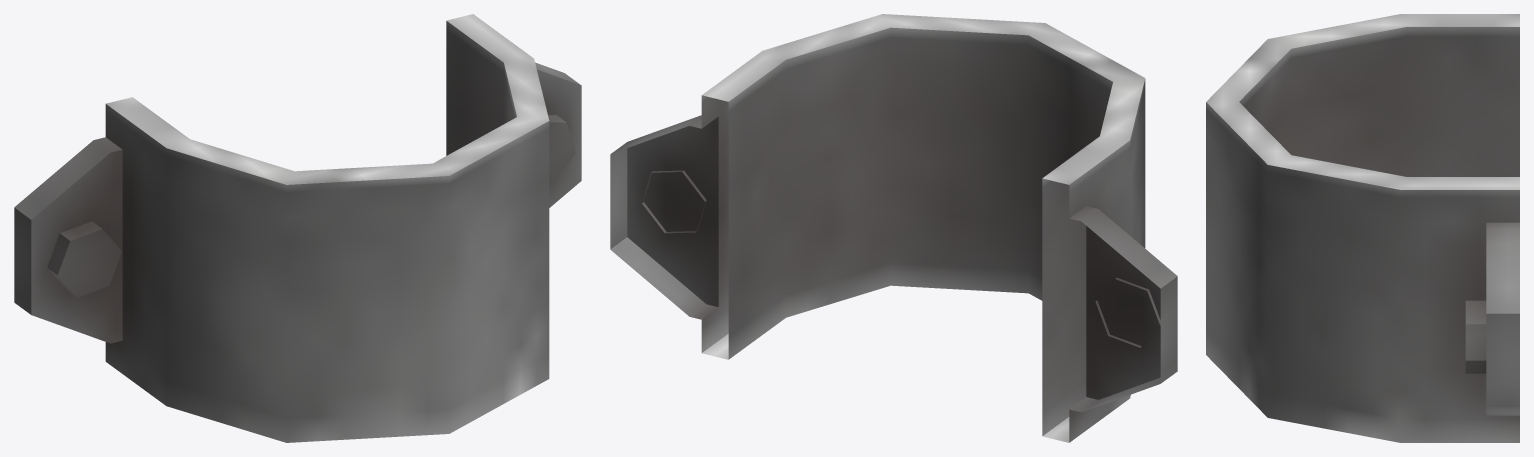
The model's file is Cables01_Det01.glb.
3 views of the same model, side by side, from view 1: azimuth 30°, elevation 25°; view 2: azimuth 150°, elevation 25°; view 3: azimuth 270°, elevation 25° (orthographic).
Visible parts, largest first — view 1: Circle_005; view 2: Circle_005; view 3: Circle_005.
Boxes of the visible parts, x1,y1,x2,y2 form: Circle_005: (14,14,581,442); Circle_005: (610,14,1177,442); Circle_005: (1206,14,1519,442).
Bounding box in the file's own units: 0.0668 × 0.0299 × 0.0336.
1 material, 1 textured.
